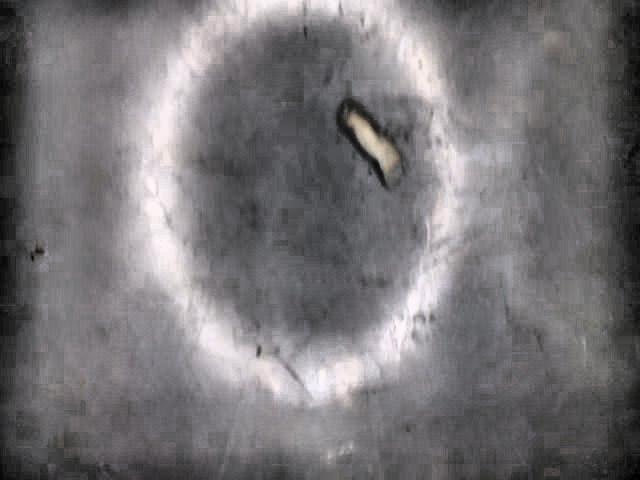Almennt: (333, 101, 410, 190)
